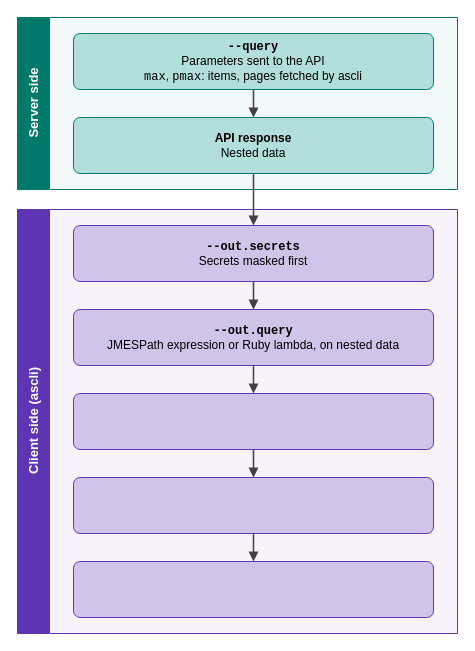
Some shapes in this 475 by 651 pixel diagram are drawn without their labels. Here are the shapes that lost their labels. From the top down, the centre of each, then its label:
(253,421): --out.select Rows
(253,505): --out.fields Columns
(253,589): Display --out.format
